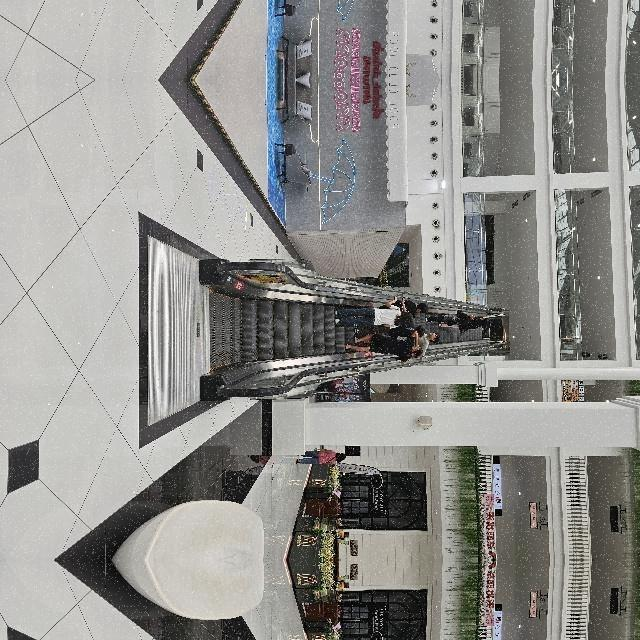obstacle: (576, 448, 640, 607), (576, 512, 640, 640), (221, 403, 273, 445), (160, 403, 202, 437)
person: (411, 297, 444, 375), (376, 307, 408, 385), (378, 291, 400, 361), (399, 295, 418, 367), (387, 243, 408, 295), (529, 374, 545, 424), (398, 227, 412, 281)
stair: (332, 390, 482, 518), (333, 602, 482, 640)
